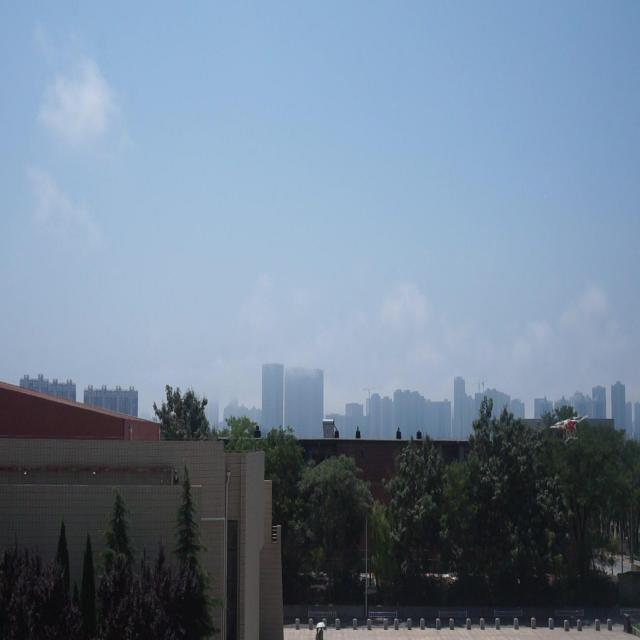UAV: (550, 414, 588, 442)
